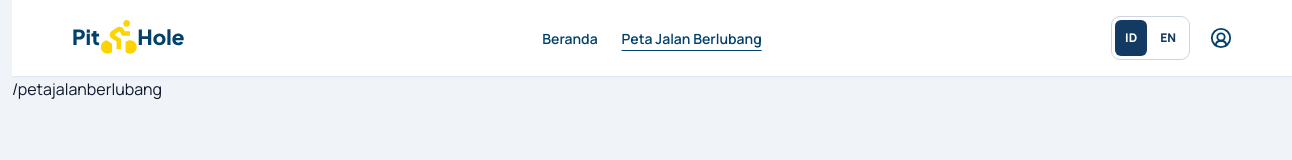
language and accessibility › switches language without navigation and persists preference
This screenshot has width=1292, height=160.
What coordinates should you click on to do the following:
click the button with aria-label "English"
I would click on:
 (1168, 38)
Its box is [1150,20,1186,56].
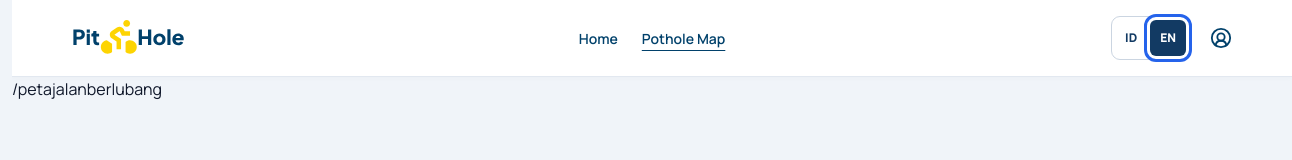
Expected: the text "/petajalanberlubang" is shown, [12,78,162,100]
Now the link "Pothole Map" is shown, box [642,28,725,48]
